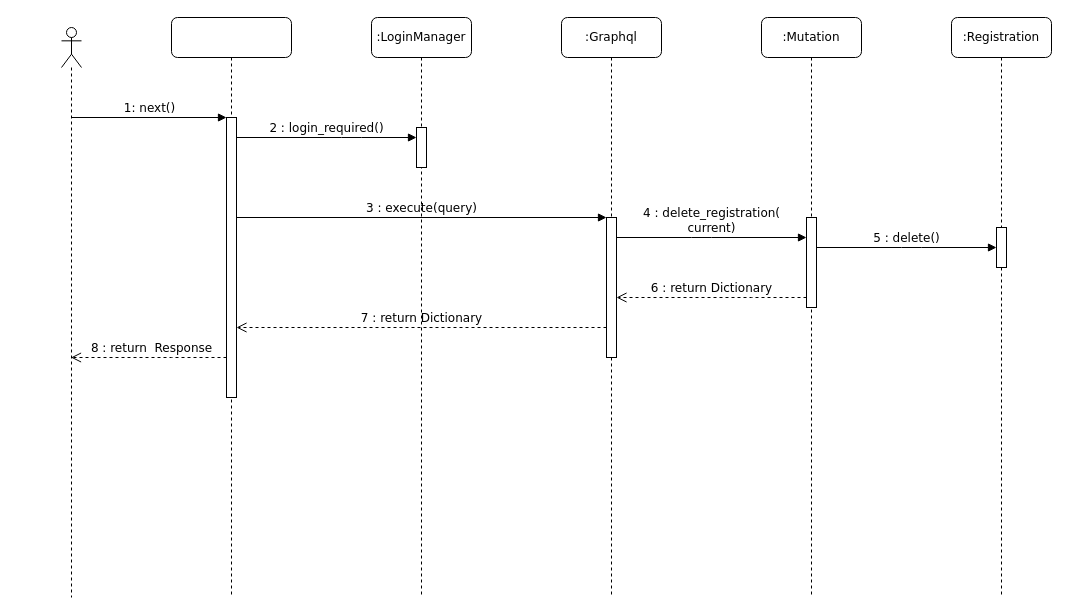
Image size: 1069x615. Some labels were removed from this diagram. Here are the shapes that lost their labels. From the top down, the box of each, then its label:
(60, 26, 82, 598): Admin|Doctor|Nurse
(170, 16, 292, 598): :Registration Blueprint
